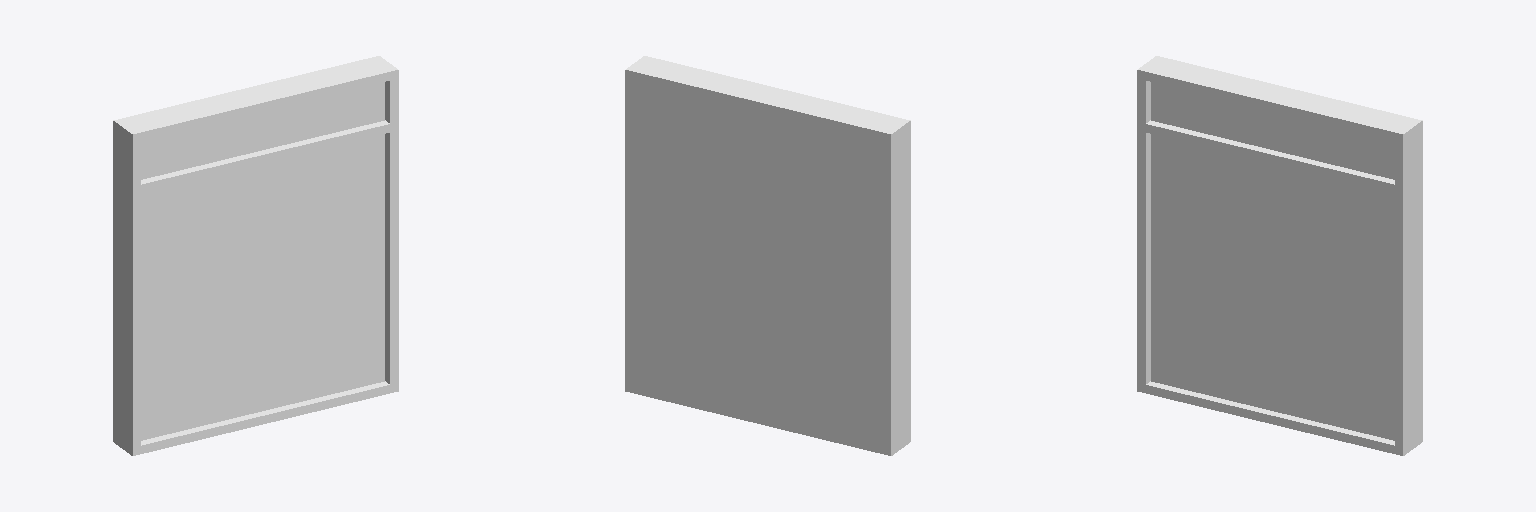
File: departuresarrival.obj
The picture shows the model from 3 angles: view 1: azimuth 30°, elevation 25°; view 2: azimuth 150°, elevation 25°; view 3: azimuth 330°, elevation 25°; orthographic projection.
Visible parts, largest first — view 1: object 1; view 2: object 1; view 3: object 1.
Part boxes in pixels (left/top/right/bottom): object 1: left=113, top=56, right=398, bottom=455; object 1: left=625, top=56, right=910, bottom=455; object 1: left=1137, top=56, right=1422, bottom=455.
Size of the model in its own units: 3.2 by 3.7 by 0.4.